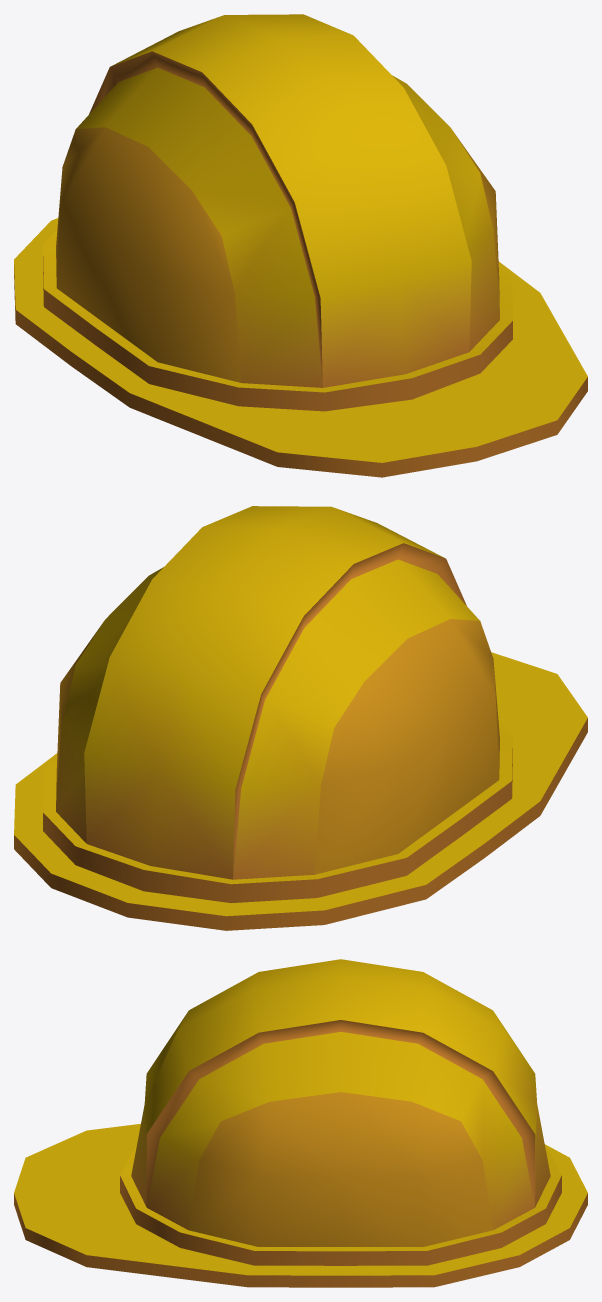
File: human-clothing-hard-hat_v1.glb
The picture shows the model from 3 angles, top to bottom: view 1: azimuth 30°, elevation 25°; view 2: azimuth 150°, elevation 25°; view 3: azimuth 270°, elevation 25°; orthographic projection. The views are drawn at different scales.
Parts seen in each view (by area): view 1: Hard Hat; view 2: Hard Hat; view 3: Hard Hat.
Part boxes in pixels (bbox=[...]): Hard Hat: bbox=[14, 14, 587, 477]; Hard Hat: bbox=[14, 506, 587, 930]; Hard Hat: bbox=[14, 959, 587, 1287].
Size of the model in its own units: 0.2052 by 0.1317 by 0.3.
